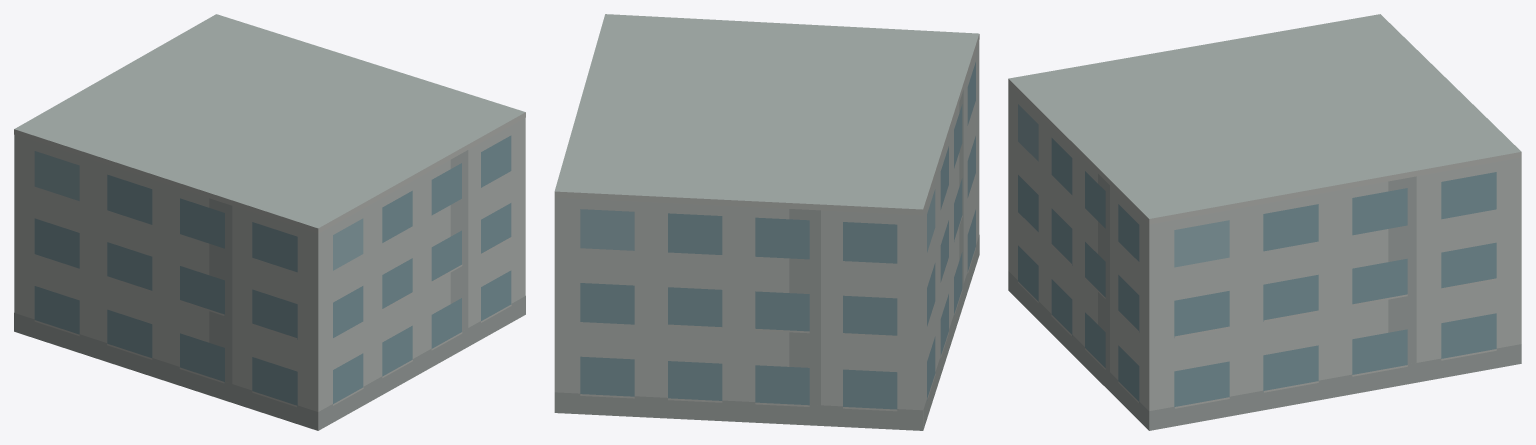
File: survey-upis-32733576.glb
The picture shows the model from 3 angles, left to right: view 1: azimuth 30°, elevation 25°; view 2: azimuth 150°, elevation 25°; view 3: azimuth 270°, elevation 25°; orthographic projection. The views are drawn at different scales.
Parts seen in each view (by area): view 1: survey-upis-32733576.tmp; view 2: survey-upis-32733576.tmp; view 3: survey-upis-32733576.tmp.
Boxes of the visible parts, <box> form: survey-upis-32733576.tmp: <box>14,14,525,430</box>; survey-upis-32733576.tmp: <box>554,14,979,430</box>; survey-upis-32733576.tmp: <box>1008,14,1521,430</box>.
Size of the model in its own units: 18.99 by 9.15 by 20.09.
